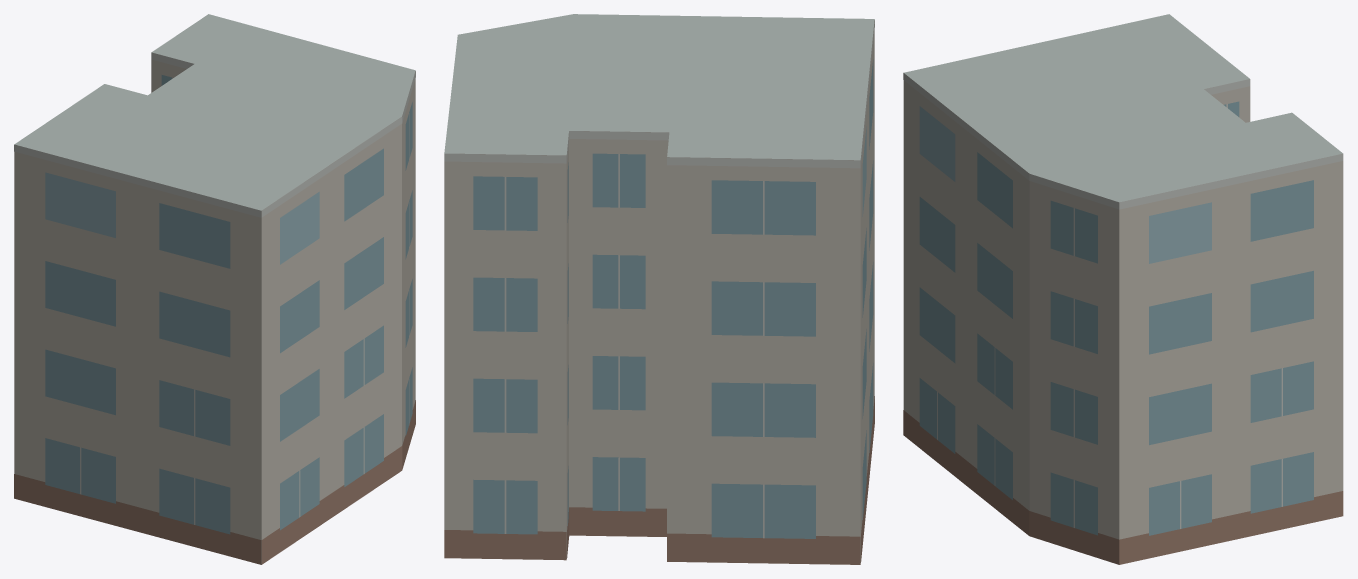
The model's file is survey-upis-32931880.glb.
The picture shows the model from 3 angles, left to right: view 1: azimuth 30°, elevation 25°; view 2: azimuth 150°, elevation 25°; view 3: azimuth 270°, elevation 25°; orthographic projection. The views are drawn at different scales.
Visible parts, largest first — view 1: survey-upis-32931880.tmp; view 2: survey-upis-32931880.tmp; view 3: survey-upis-32931880.tmp.
Part boxes in pixels (x1,y1,x2,y2): survey-upis-32931880.tmp: (14, 14, 415, 564); survey-upis-32931880.tmp: (444, 14, 874, 564); survey-upis-32931880.tmp: (903, 14, 1343, 564).
Size of the model in its own units: 13.59 by 12.19 by 13.41.
